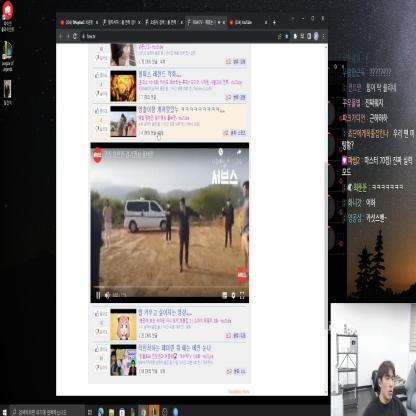streamer: (361, 360, 406, 416)
